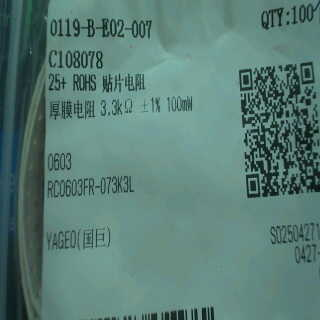3.3kO: (97, 93, 134, 124)
